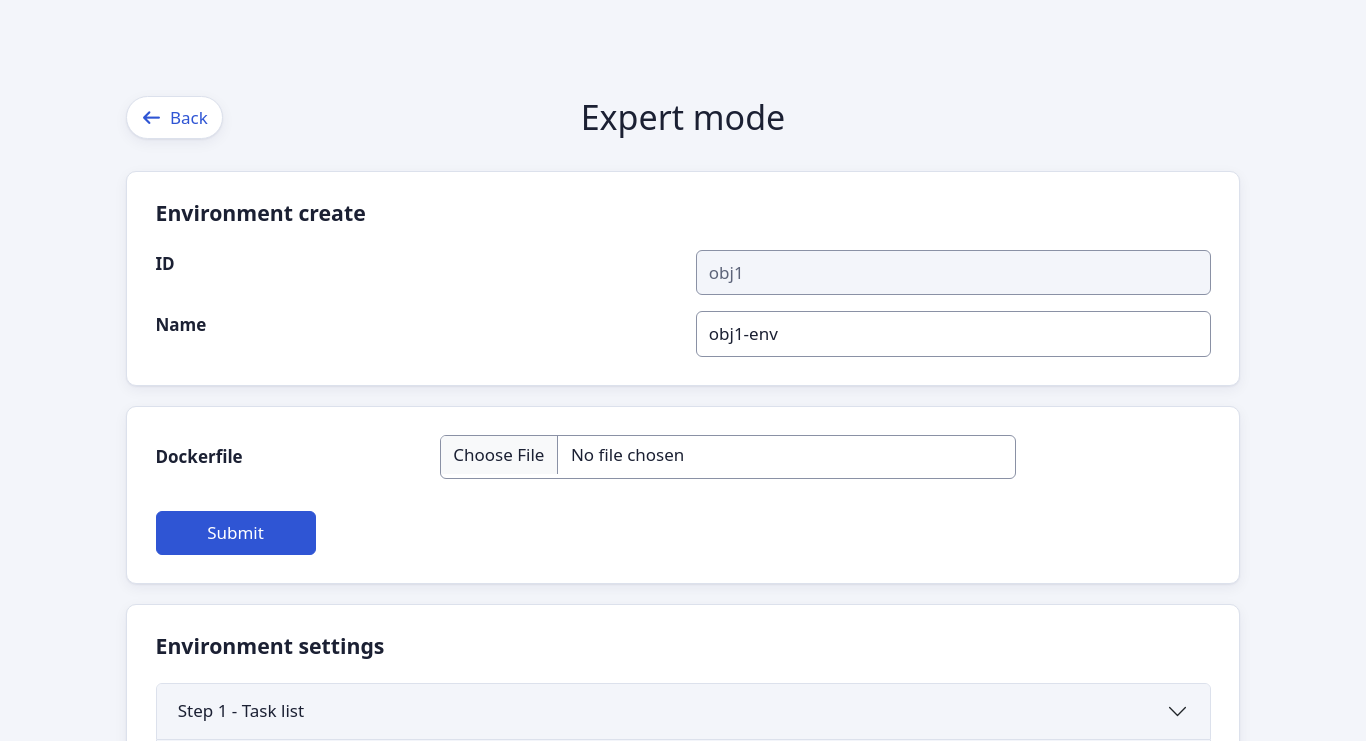
creates the environment before unlocking the finalize step
The image size is (1366, 741).
Click the button "Submit".
click(236, 533)  # box x1=156 y1=511 x2=316 y2=555
(page scrolled)
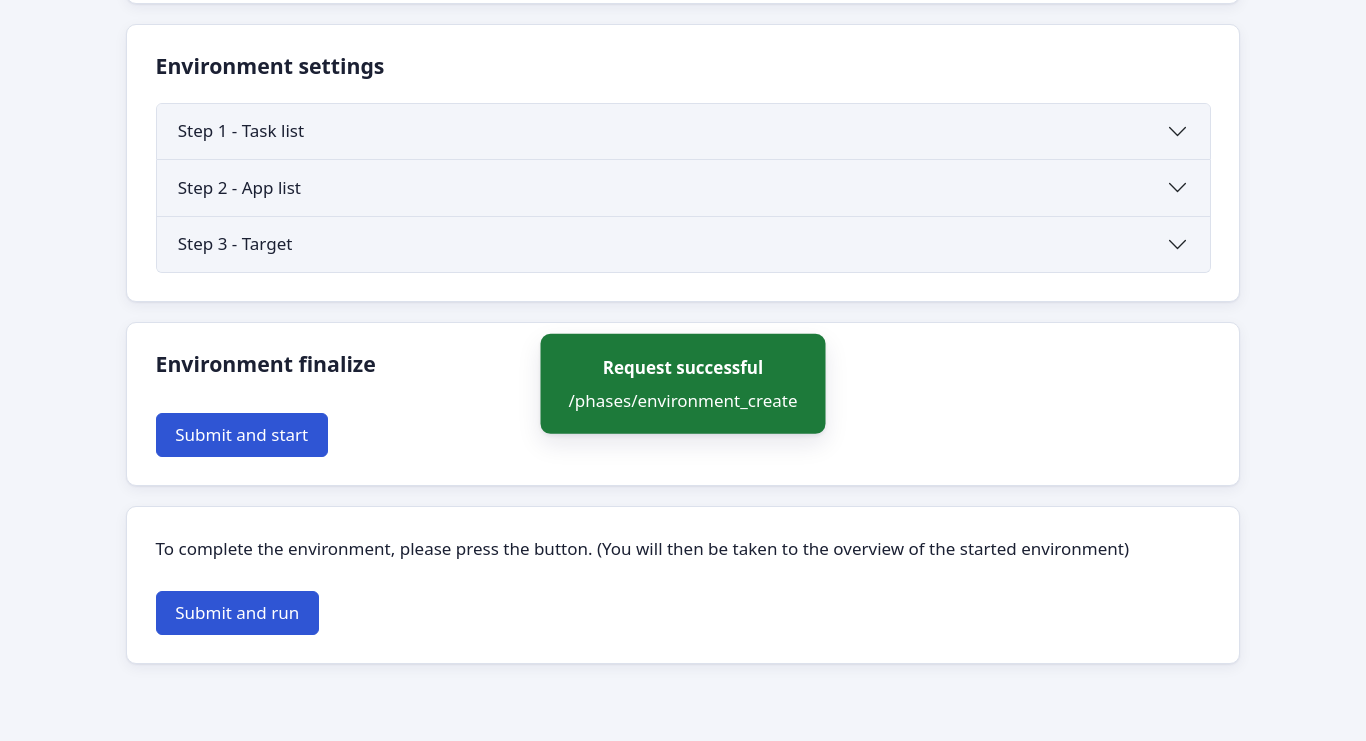
Result: the button "Submit and start" is enabled at x1=156 y1=413 x2=328 y2=457
